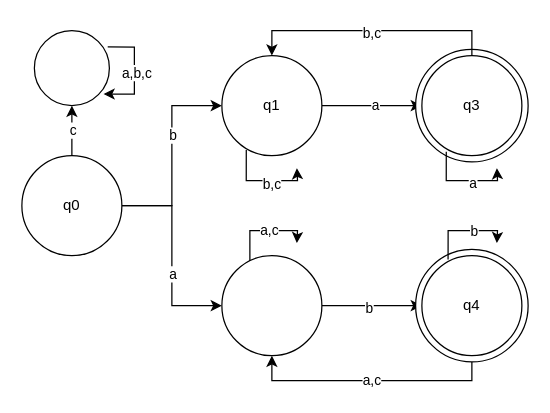
This 550x413 diagram has some shape labels left out. Each missing label, with the centre of its shape:
"q2" belongs at (271,305).
"q5" belongs at (71,67).
